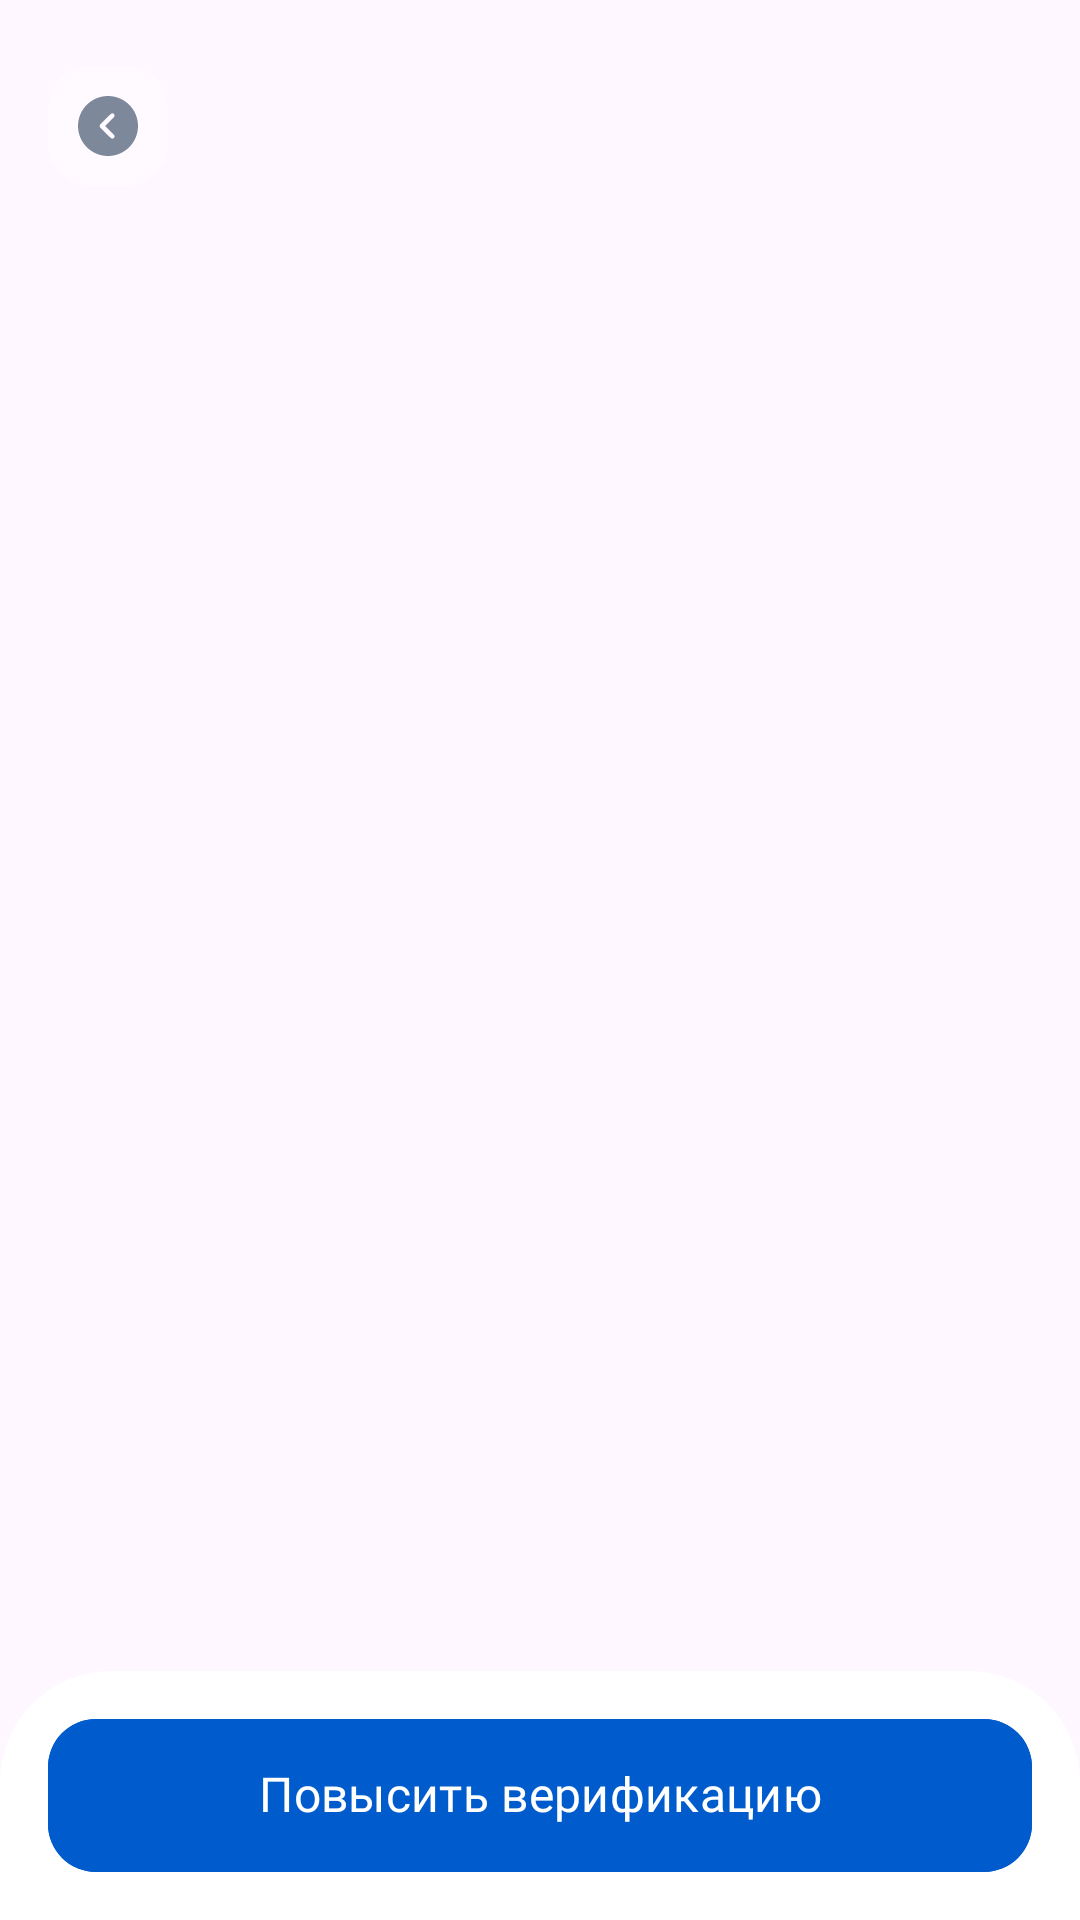

Icons on this 1080*1920 Android screen, each with its box as (x1, y1, x2, y2):
back current fragment: (78, 96, 138, 156)
